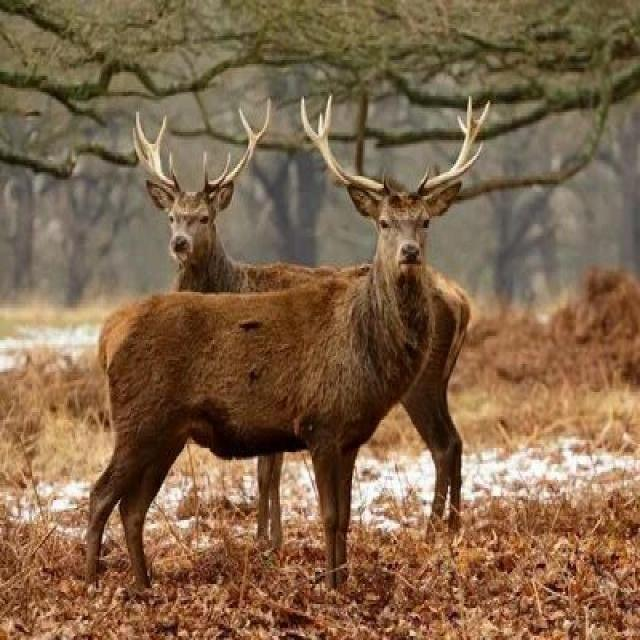deer: (56, 136, 508, 567), (140, 139, 477, 453)
